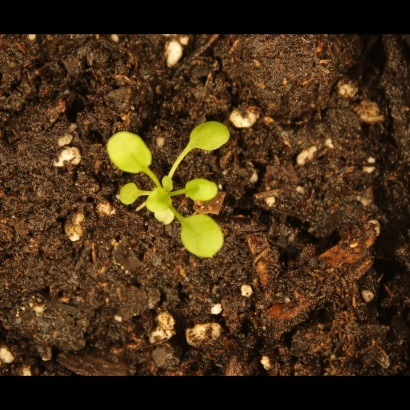leaf: (97, 130, 160, 177), (178, 211, 226, 265), (186, 116, 240, 157), (145, 185, 175, 234), (184, 171, 224, 204), (116, 181, 142, 209), (157, 174, 180, 197)
